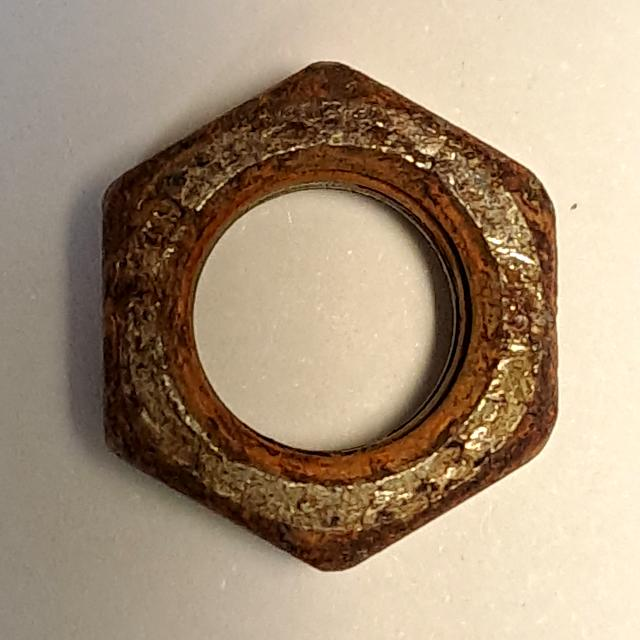Rust: (83, 38, 576, 595)
